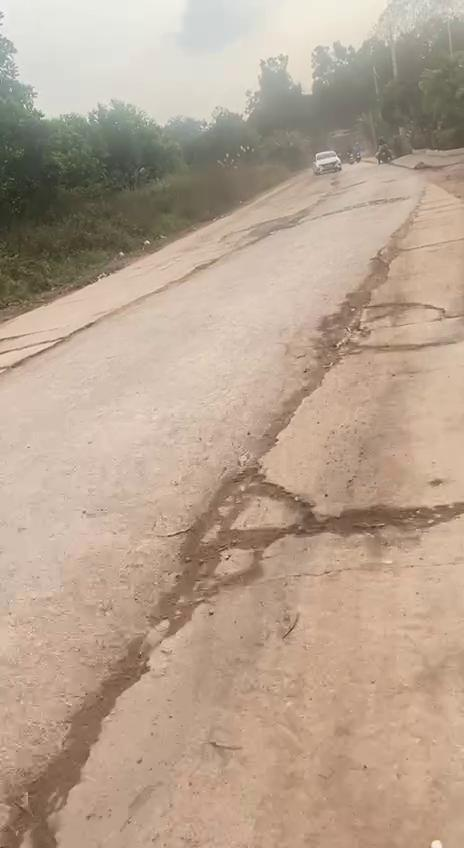pothole: (176, 469, 464, 583)
